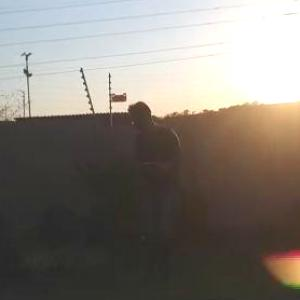follow: (123, 95, 187, 299)
